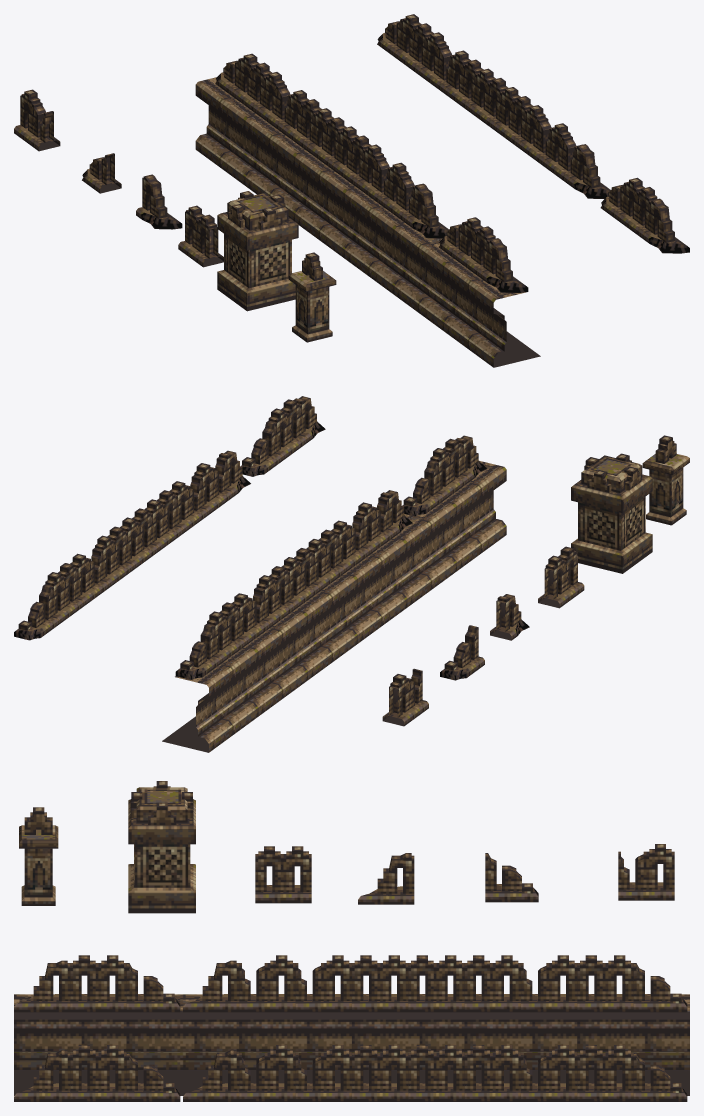
The model's file is EnvMdrMD_Ruins_A_Fence_A.FBX.
The picture shows the model from 3 angles, top to bottom: view 1: azimuth 30°, elevation 25°; view 2: azimuth 150°, elevation 25°; view 3: azimuth 270°, elevation 25°; orthographic projection. The views are drawn at different scales.
Visible parts, largest first — view 1: EnvMdrMD_Ruins_A_Fence_Spline_A, EnvMdrMD_Ruins_A_Fence_Spline_B, EnvMdrMD_Ruins_A_Fence_Post_B, EnvMdrMD_Ruins_A_Fence_Post_A, EnvMdrMD_Ruins_A_Fence_A, EnvMdrMD_Ruins_A_Fence_B, EnvMdrMD_Ruins_A_Fence_C_Right, EnvMdrMD_Ruins_A_Fence_C_Left; view 2: EnvMdrMD_Ruins_A_Fence_Spline_A, EnvMdrMD_Ruins_A_Fence_Spline_B, EnvMdrMD_Ruins_A_Fence_Post_B, EnvMdrMD_Ruins_A_Fence_Post_A, EnvMdrMD_Ruins_A_Fence_A, EnvMdrMD_Ruins_A_Fence_B, EnvMdrMD_Ruins_A_Fence_C_Left, EnvMdrMD_Ruins_A_Fence_C_Right; view 3: EnvMdrMD_Ruins_A_Fence_Spline_A, EnvMdrMD_Ruins_A_Fence_Spline_B, EnvMdrMD_Ruins_A_Fence_Post_B, EnvMdrMD_Ruins_A_Fence_Post_A, EnvMdrMD_Ruins_A_Fence_A, EnvMdrMD_Ruins_A_Fence_B, EnvMdrMD_Ruins_A_Fence_C_Right, EnvMdrMD_Ruins_A_Fence_C_Left.
Boxes of the visible parts, <box> form: EnvMdrMD_Ruins_A_Fence_Spline_A: <box>195,53,540,367</box>; EnvMdrMD_Ruins_A_Fence_Spline_B: <box>377,14,689,253</box>; EnvMdrMD_Ruins_A_Fence_Post_B: <box>217,191,298,311</box>; EnvMdrMD_Ruins_A_Fence_Post_A: <box>288,252,336,342</box>; EnvMdrMD_Ruins_A_Fence_A: <box>178,205,223,267</box>; EnvMdrMD_Ruins_A_Fence_B: <box>14,89,60,151</box>; EnvMdrMD_Ruins_A_Fence_C_Right: <box>136,174,182,229</box>; EnvMdrMD_Ruins_A_Fence_C_Left: <box>82,153,121,193</box>; EnvMdrMD_Ruins_A_Fence_Spline_A: <box>162,435,506,752</box>; EnvMdrMD_Ruins_A_Fence_Spline_B: <box>14,396,325,640</box>; EnvMdrMD_Ruins_A_Fence_Post_B: <box>571,453,652,573</box>; EnvMdrMD_Ruins_A_Fence_Post_A: <box>642,435,689,525</box>; EnvMdrMD_Ruins_A_Fence_A: <box>538,546,584,608</box>; EnvMdrMD_Ruins_A_Fence_B: <box>382,668,428,726</box>; EnvMdrMD_Ruins_A_Fence_C_Left: <box>440,625,484,680</box>; EnvMdrMD_Ruins_A_Fence_C_Right: <box>490,594,529,640</box>; EnvMdrMD_Ruins_A_Fence_Spline_A: <box>14,955,689,1095</box>; EnvMdrMD_Ruins_A_Fence_Spline_B: <box>14,1045,687,1101</box>; EnvMdrMD_Ruins_A_Fence_Post_B: <box>128,781,195,913</box>; EnvMdrMD_Ruins_A_Fence_Post_A: <box>19,807,58,905</box>; EnvMdrMD_Ruins_A_Fence_A: <box>255,846,311,903</box>; EnvMdrMD_Ruins_A_Fence_B: <box>618,844,674,900</box>; EnvMdrMD_Ruins_A_Fence_C_Right: <box>358,853,414,904</box>; EnvMdrMD_Ruins_A_Fence_C_Left: <box>485,853,538,902</box>.
Size of the model in its own units: 912 by 355 by 1200.
1 material, 1 textured.
